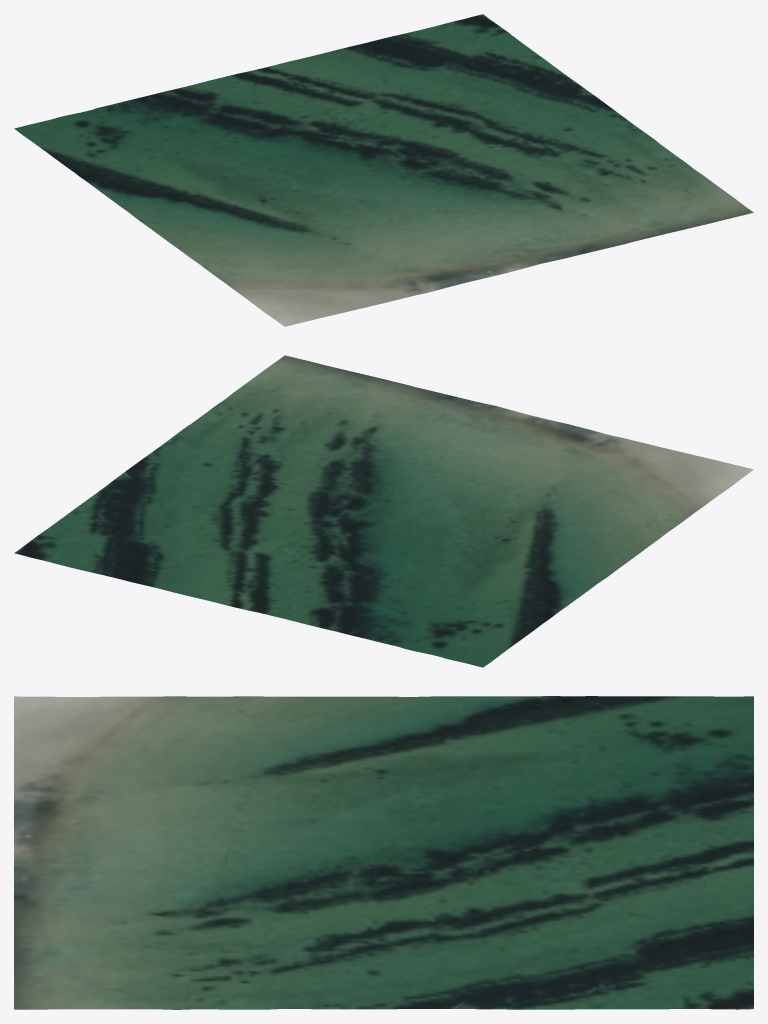
The picture shows the model from 3 angles, top to bottom: view 1: azimuth 30°, elevation 25°; view 2: azimuth 150°, elevation 25°; view 3: azimuth 270°, elevation 25°; orthographic projection. The views are drawn at different scales.
Size of the model in its own units: 104 by 0.3182 by 104.
Materials: 3 (3 with a texture image).
